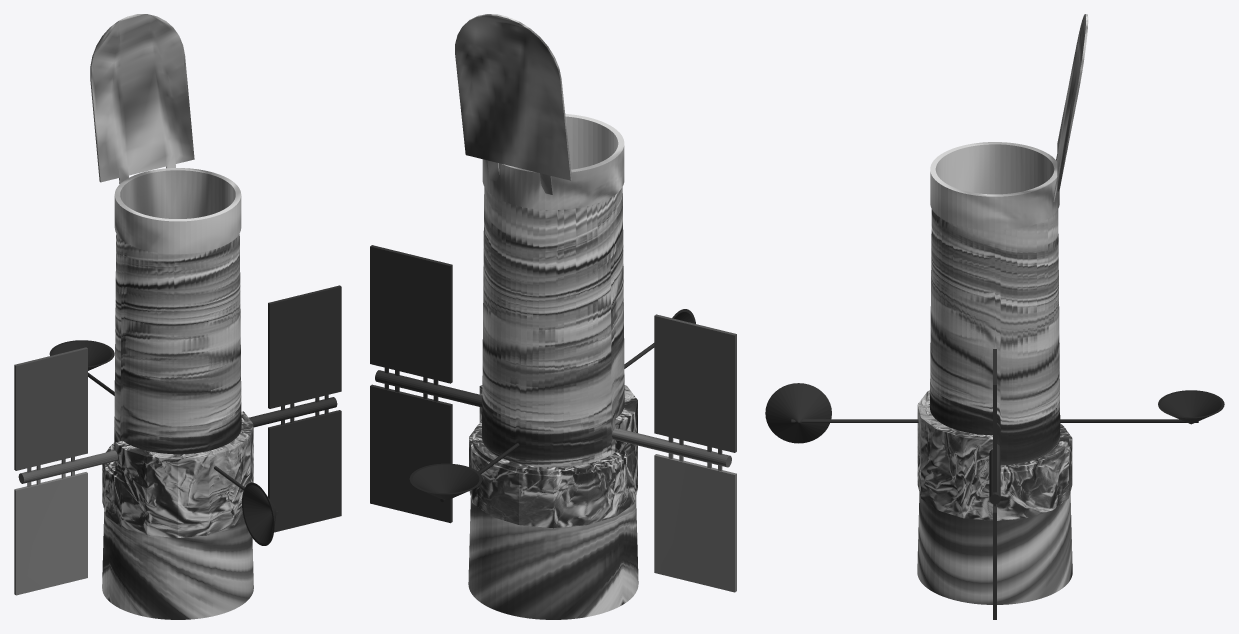
The model's file is hubble.fbx.
3 views of the same model, side by side, from view 1: azimuth 30°, elevation 25°; view 2: azimuth 150°, elevation 25°; view 3: azimuth 270°, elevation 25° (orthographic). The views are drawn at different scales.
Parts seen in each view (by area): view 1: Hubble; view 2: Hubble; view 3: Hubble.
Part boxes in pixels (<box>): Hubble: <box>14,14,341,619</box>; Hubble: <box>370,14,736,619</box>; Hubble: <box>765,14,1224,619</box>.
Size of the model in its own units: 31.16 by 49.34 by 37.15.
